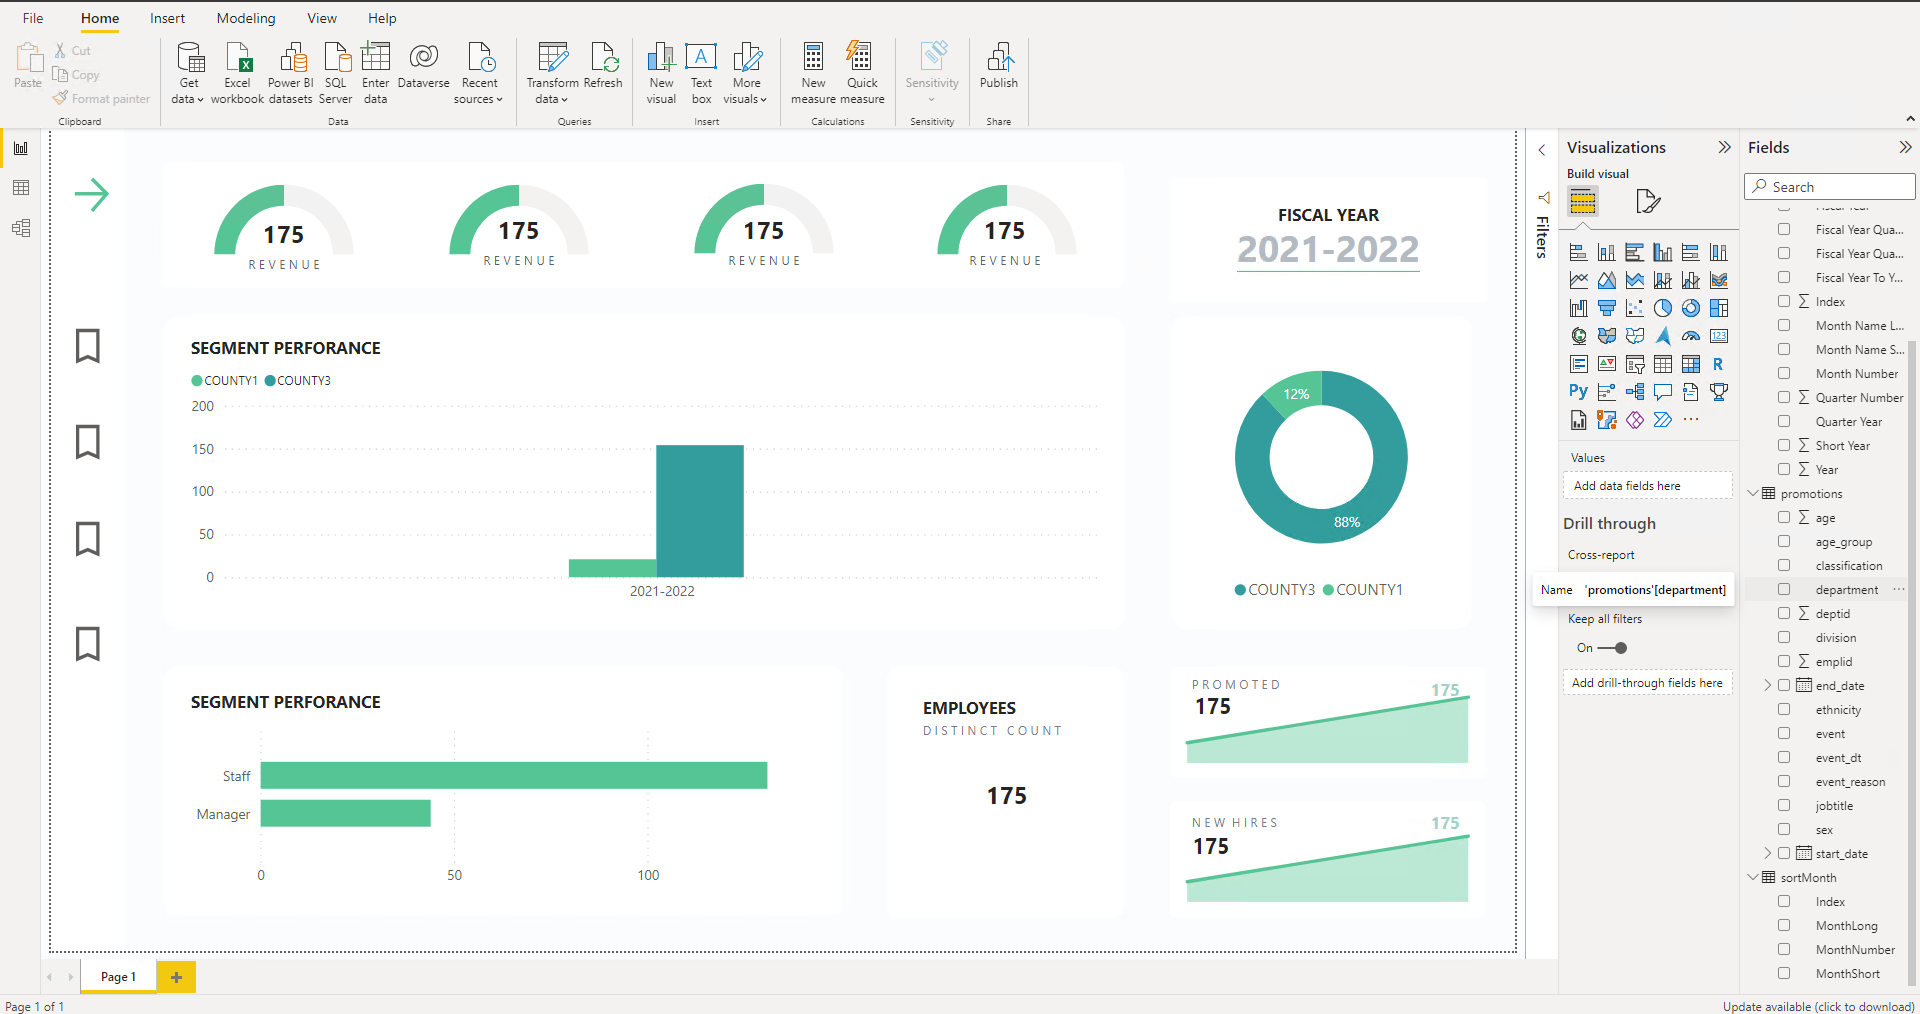

The dashboard page shown, as its layout file describes it:
{"tool":"powerbi","page":{"name":"Page 1","canvas":[1280,720],"ordinal":0},"visuals":[{"type":"shape","box":[0,0,64,719.9],"z":0},{"type":"textbox","box":[79.7,0,343.8,719.9],"z":0,"group":"g1"},{"type":"textbox","box":[63.9,0,350.6,719.9],"z":1000,"group":"g1"},{"type":"shape","box":[98.9,29.7,840,110],"z":1000},{"type":"textbox","box":[79.6,38.7,311.6,298.9],"z":1500,"group":"g1"},{"type":"shape","box":[98.8,164.7,841.1,274.2],"z":2000},{"type":"textbox","box":[79.5,339,310,34.7],"z":2000,"group":"g1"},{"type":"actionButton","box":[352.2,36,46.7,40],"z":3000,"group":"g1"},{"type":"shape","box":[98.8,471.9,594.9,218],"z":3000},{"type":"slicer","fields":{"Values":["calendar.Fiscal Year To Years"]},"box":[75.4,373,306.9,79.9],"z":3500,"group":"g1"},{"type":"shape","box":[980.7,164.5,261.6,273.8],"z":4000},{"type":"gauge","fields":{"Y":["Sum(promotions.emplid)"]},"box":[99.2,44.7,210.1,71],"z":5000},{"type":"card","fields":{"Values":["Sum(promotions.emplid)"]},"box":[153.1,71.7,100.6,59.5],"z":6000},{"type":"textbox","box":[979.5,55.4,262.6,46.7],"z":7000},{"type":"donutChart","fields":{"Y":["Sum(promotions.emplid)"],"Category":["promotions.department"]},"box":[947.5,182,328.1,241.5],"z":8000},{"type":"clusteredColumnChart","title":"SEGMENT PERFORANCE","fields":{"Category":["calendar.Fiscal Year To Years"],"Y":["Sum(promotions.emplid)"],"Series":["promotions.department"]},"box":[117.2,182.2,805.2,241.3],"z":9000},{"type":"clusteredBarChart","title":"SEGMENT PERFORANCE","fields":{"Y":["Sum(promotions.emplid)"],"Category":["promotions.classification"]},"box":[117.2,491.3,555.2,180.2],"z":10000},{"type":"actionButton","box":[14.7,38.7,40,40],"z":11000},{"type":"gauge","fields":{"Y":["Sum(promotions.emplid)"]},"box":[304.4,44.6,210,70.9],"z":11500},{"type":"card","fields":{"Values":["Sum(promotions.emplid)"]},"box":[358.7,68.2,100.6,59.5],"z":11750},{"type":"group","id":"g1","title":"Panel","box":[63.9,0,359.7,719.9],"z":12000},{"type":"actionButton","box":[12.2,170.6,40.2,40.2],"z":13000},{"type":"actionButton","box":[12.2,254.6,40.2,40.2],"z":14000},{"type":"actionButton","box":[12.2,339.4,40.2,40.2],"z":15000},{"type":"actionButton","box":[12.2,431.3,40.2,40.2],"z":16000},{"type":"shape","box":[980.7,42.9,275.6,110.2],"z":17000},{"type":"textbox","box":[981.1,76.9,273.8,81.3],"z":18000},{"type":"textbox","box":[986,60.5,263.2,47.4],"z":19000},{"type":"gauge","fields":{"Y":["Sum(promotions.emplid)"]},"box":[518.8,43.7,210,70.9],"z":22000},{"type":"card","fields":{"Values":["Sum(promotions.emplid)"]},"box":[573,68.2,100.6,59.5],"z":23000},{"type":"gauge","fields":{"Y":["Sum(promotions.emplid)"]},"box":[731.4,44.6,210,70.9],"z":24000},{"type":"card","fields":{"Values":["Sum(promotions.emplid)"]},"box":[783.9,68.2,100.6,59.5],"z":25000},{"type":"shape","box":[730.9,471.6,207.7,218.9],"z":26000},{"type":"shape","box":[980.1,471.2,274.8,96.7],"z":27000},{"type":"shape","box":[979.1,589.2,275.7,101.6],"z":28000},{"type":"stackedAreaChart","title":"N E W  H I R E S","fields":{"Category":["calendar.Date.Variation.Date Hierarchy.Year","calendar.Date.Variation.Date Hierarchy.Quarter","calendar.Date.Variation.Date Hierarchy.Month","calendar.Date.Variation.Date Hierarchy.Day"],"Y":["Sum(promotions.emplid)"]},"box":[979.1,598.9,275.7,83.2],"z":29000},{"type":"stackedAreaChart","title":"P R O M O T E D","fields":{"Y":["Sum(promotions.emplid)"],"Category":["calendar.Date.Variation.Date Hierarchy.Year","calendar.Date.Variation.Date Hierarchy.Quarter","calendar.Date.Variation.Date Hierarchy.Month","calendar.Date.Variation.Date Hierarchy.Day"]},"box":[979.1,477.9,275.7,83.2],"z":30000},{"type":"card","title":"P R O M O T E D","fields":{"Values":["Sum(promotions.emplid)"]},"box":[981,486.7,71.6,41.6],"z":31000},{"type":"card","fields":{"Values":["Sum(promotions.emplid)"]},"box":[757.6,507.9,156.7,151.9],"z":32000},{"type":"textbox","box":[757.6,491.5,181.9,53.2],"z":33000},{"type":"card","title":"P R O M O T E D","fields":{"Values":["Sum(promotions.emplid)"]},"box":[979.1,608.6,71.6,41.6],"z":34000},{"type":"textbox","box":[992.7,454.7,262.2,46.4],"z":35000},{"type":"textbox","box":[992.7,575.7,262.2,46.4],"z":36000},{"type":"card","title":"P R O M O T E D","fields":{"Values":["Sum(promotions.emplid)"]},"box":[1183.3,472.1,71.6,41.6],"z":37000},{"type":"card","title":"P R O M O T E D","fields":{"Values":["Sum(promotions.emplid)"]},"box":[1183.3,589.2,71.6,41.6],"z":38000}]}

Visuals, with their boxes on the page's 1280x720 design canvas (x1, y1, x2, y2). These are canvas units, not pixel positions in the 1920x1014 screenshot, which may show the page scaled, cropped or inside an application window:
shape: bbox=(0, 0, 64, 720)
textbox: bbox=(80, 0, 424, 720)
textbox: bbox=(64, 0, 414, 720)
shape: bbox=(99, 30, 939, 140)
textbox: bbox=(80, 39, 391, 338)
shape: bbox=(99, 165, 940, 439)
textbox: bbox=(80, 339, 390, 374)
actionButton: bbox=(352, 36, 399, 76)
shape: bbox=(99, 472, 694, 690)
slicer - calendar.Fiscal Year To Years: bbox=(75, 373, 382, 453)
shape: bbox=(981, 164, 1242, 438)
gauge - Sum(promotions.emplid): bbox=(99, 45, 309, 116)
card - Sum(promotions.emplid): bbox=(153, 72, 254, 131)
textbox: bbox=(980, 55, 1242, 102)
donutChart - Sum(promotions.emplid) x promotions.department: bbox=(948, 182, 1276, 424)
"SEGMENT PERFORANCE" clusteredColumnChart: bbox=(117, 182, 922, 424)
"SEGMENT PERFORANCE" clusteredBarChart: bbox=(117, 491, 672, 672)
actionButton: bbox=(15, 39, 55, 79)
gauge - Sum(promotions.emplid): bbox=(304, 45, 514, 116)
card - Sum(promotions.emplid): bbox=(359, 68, 459, 128)
"Panel" group: bbox=(64, 0, 424, 720)
actionButton: bbox=(12, 171, 52, 211)
actionButton: bbox=(12, 255, 52, 295)
actionButton: bbox=(12, 339, 52, 380)
actionButton: bbox=(12, 431, 52, 472)
shape: bbox=(981, 43, 1256, 153)
textbox: bbox=(981, 77, 1255, 158)
textbox: bbox=(986, 60, 1249, 108)
gauge - Sum(promotions.emplid): bbox=(519, 44, 729, 115)
card - Sum(promotions.emplid): bbox=(573, 68, 674, 128)
gauge - Sum(promotions.emplid): bbox=(731, 45, 941, 116)
card - Sum(promotions.emplid): bbox=(784, 68, 884, 128)
shape: bbox=(731, 472, 939, 690)
shape: bbox=(980, 471, 1255, 568)
shape: bbox=(979, 589, 1255, 691)
"N E W  H I R E S" stackedAreaChart: bbox=(979, 599, 1255, 682)
"P R O M O T E D" stackedAreaChart: bbox=(979, 478, 1255, 561)
"P R O M O T E D" card: bbox=(981, 487, 1053, 528)
card - Sum(promotions.emplid): bbox=(758, 508, 914, 660)
textbox: bbox=(758, 492, 940, 545)
"P R O M O T E D" card: bbox=(979, 609, 1051, 650)
textbox: bbox=(993, 455, 1255, 501)
textbox: bbox=(993, 576, 1255, 622)
"P R O M O T E D" card: bbox=(1183, 472, 1255, 514)
"P R O M O T E D" card: bbox=(1183, 589, 1255, 631)
